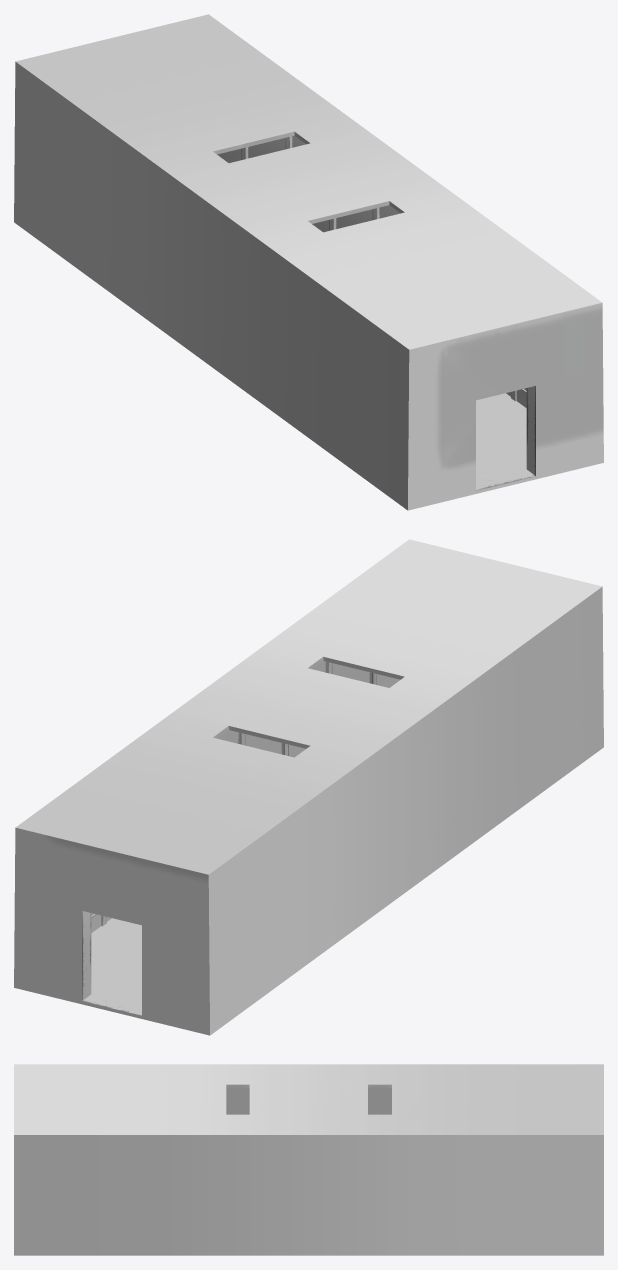
The model's file is cargotrain_v2.fbx.
The picture shows the model from 3 angles, top to bottom: view 1: azimuth 30°, elevation 25°; view 2: azimuth 150°, elevation 25°; view 3: azimuth 270°, elevation 25°; orthographic projection. The views are drawn at different scales.
Parts seen in each view (by area): view 1: train_low; view 2: train_low; view 3: train_low.
Part boxes in pixels (x1,y1,x2,y2): train_low: (14, 14, 603, 510); train_low: (14, 539, 603, 1035); train_low: (14, 1064, 603, 1255).
Bounding box in the file's own units: 3027 × 2367 × 10530.
